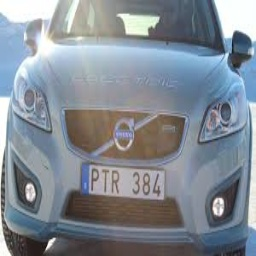sv_licence_plate: (80, 163, 164, 199)
